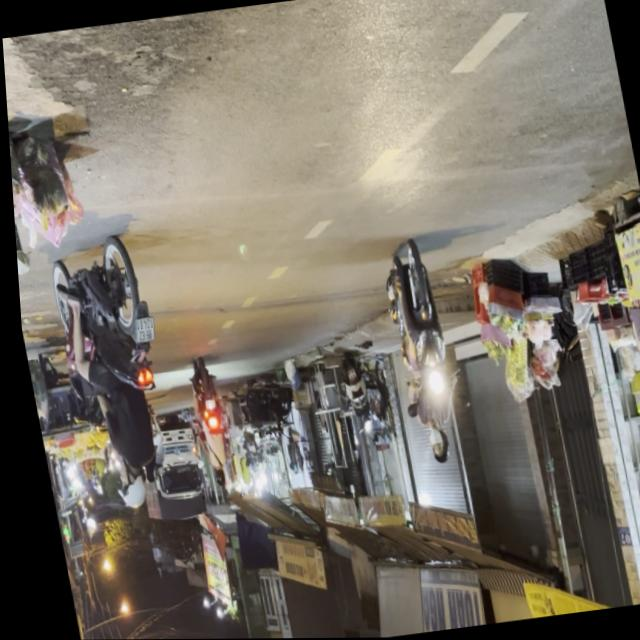helmet: (107, 461, 142, 511), (421, 426, 446, 466)
licenseplate: (38, 232, 183, 518), (370, 237, 467, 470)
nohelmet: (125, 317, 152, 344)
